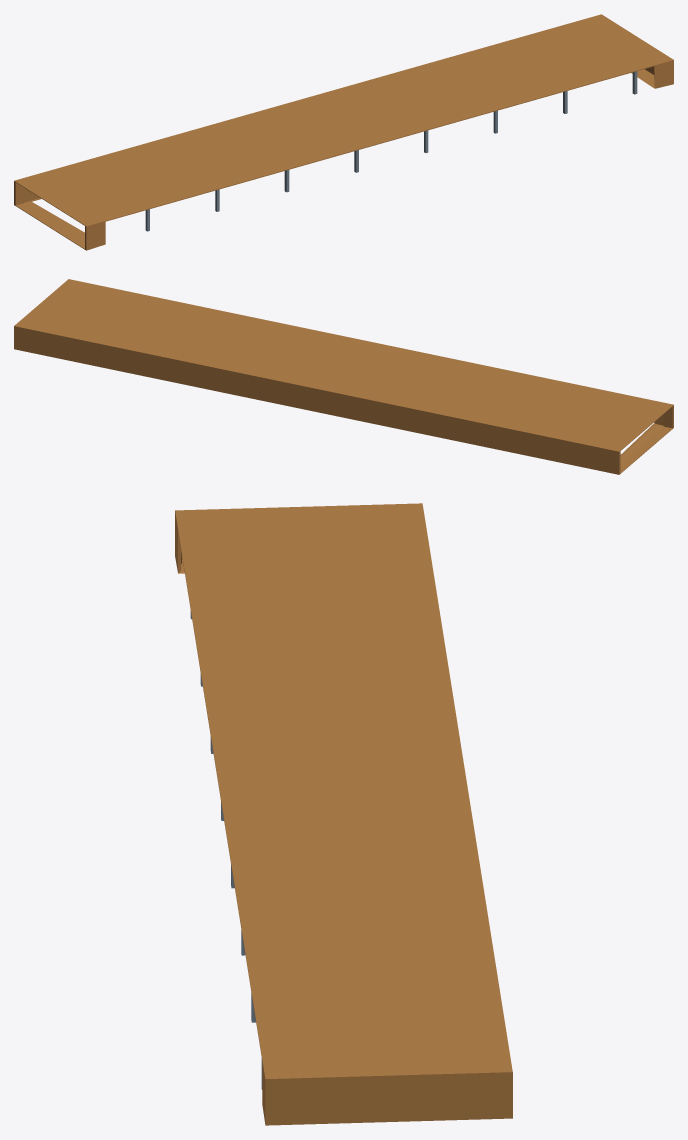
Rendered from ShedExport.fbx.
The picture shows the model from 3 angles, top to bottom: view 1: azimuth 30°, elevation 25°; view 2: azimuth 150°, elevation 25°; view 3: azimuth 270°, elevation 25°; orthographic projection. The views are drawn at different scales.
Parts seen in each view (by area): view 1: Pergola, Cube.003; view 2: Pergola; view 3: Pergola.
Boxes of the visible parts, bbox=[...] form: Pergola: bbox=[14, 14, 673, 250]; Cube.003: bbox=[145, 71, 637, 231]; Pergola: bbox=[14, 279, 673, 474]; Pergola: bbox=[175, 503, 512, 1125].
Size of the model in its own units: 9699 by 365 by 2404.
